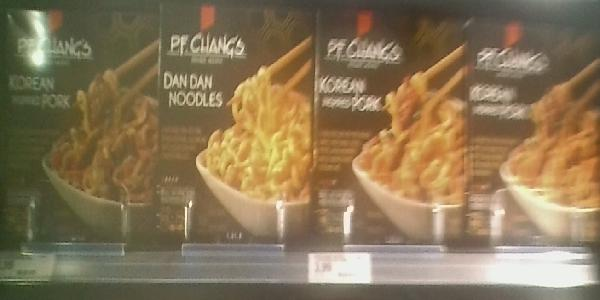pizza1: (157, 1, 315, 247), (1, 5, 157, 244), (317, 7, 468, 248), (472, 12, 600, 250)
